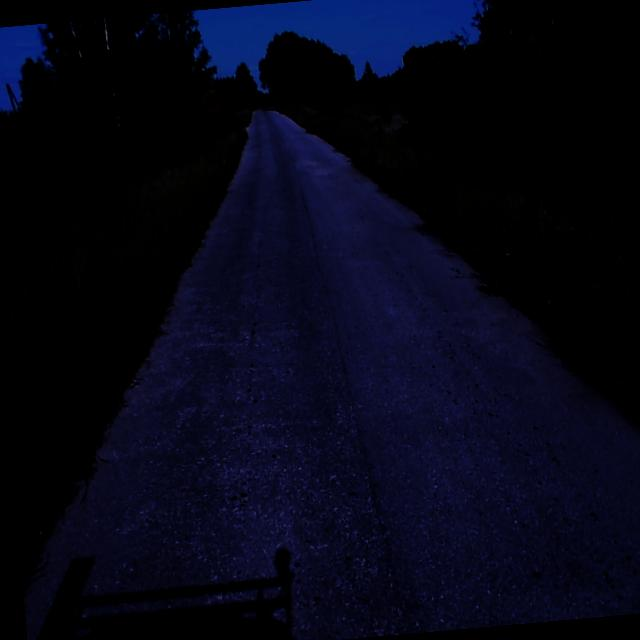road: (22, 109, 640, 640)
